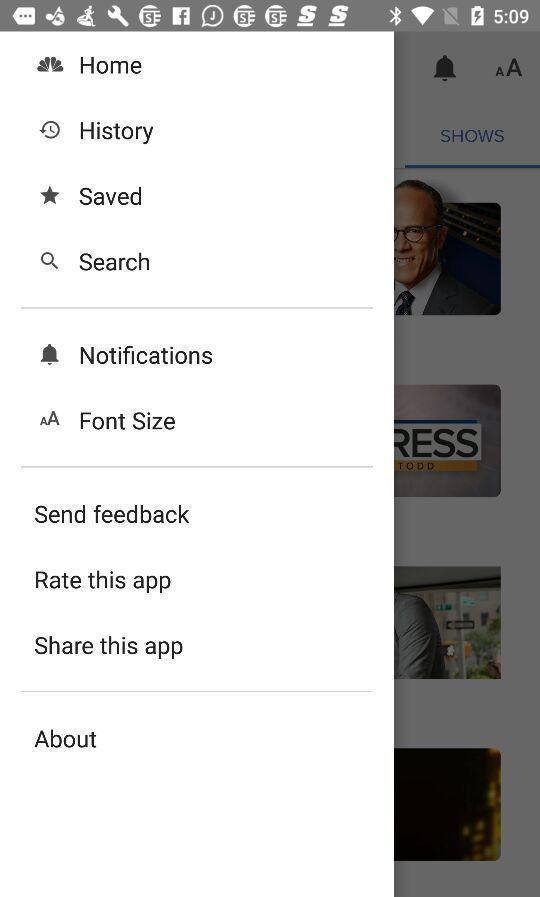Drawer: (1, 32, 394, 897)
Icon: (41, 344, 61, 366), (40, 121, 62, 140), (40, 186, 61, 205), (41, 252, 60, 270)
Image: (37, 57, 66, 74), (40, 411, 61, 426)
Text: (35, 636, 184, 660), (35, 504, 192, 525), (36, 570, 172, 594), (81, 345, 214, 366), (80, 412, 177, 431), (81, 122, 154, 145), (79, 252, 151, 273), (35, 728, 98, 749), (80, 187, 142, 207), (81, 57, 143, 76)
UpperTaskBar: (1, 1, 540, 33)
